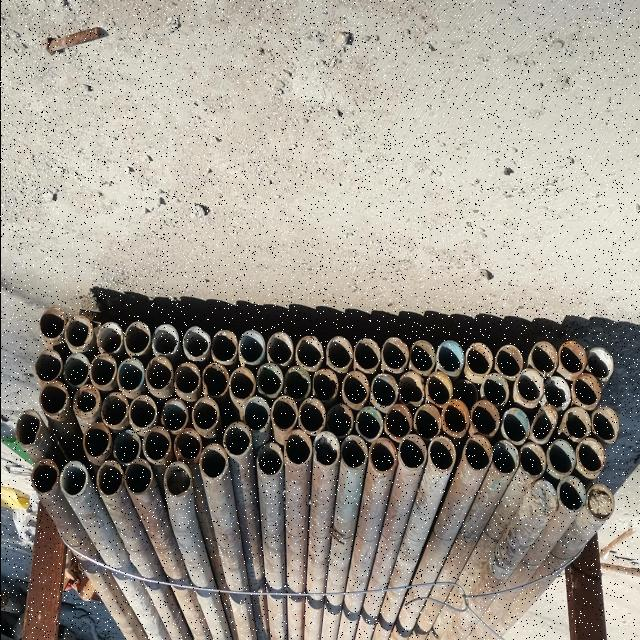pipe: (529, 476, 557, 520), (544, 438, 574, 477), (58, 458, 88, 497), (30, 456, 59, 496), (490, 438, 520, 476), (502, 405, 532, 443), (464, 434, 494, 472), (518, 440, 546, 480), (542, 374, 572, 411), (200, 361, 230, 398), (531, 404, 558, 444), (530, 339, 560, 375), (494, 342, 524, 378), (470, 400, 500, 436), (198, 443, 228, 479), (162, 462, 192, 498), (514, 366, 542, 404), (428, 434, 456, 472), (369, 437, 397, 475), (284, 428, 312, 466), (558, 475, 586, 512), (266, 329, 294, 366), (313, 430, 340, 468), (15, 408, 42, 446), (480, 372, 510, 406), (294, 334, 324, 368), (586, 484, 614, 520), (398, 433, 426, 469), (355, 404, 383, 440), (341, 370, 369, 406), (270, 396, 298, 432), (191, 396, 219, 432), (174, 426, 202, 462), (142, 426, 170, 462), (144, 355, 172, 391), (96, 460, 124, 496), (443, 398, 469, 436), (95, 320, 124, 354), (413, 404, 441, 439), (436, 339, 464, 374), (384, 403, 412, 438), (326, 403, 354, 438), (283, 366, 311, 401), (210, 328, 238, 363), (124, 458, 152, 493), (116, 357, 144, 392), (72, 384, 100, 419), (39, 381, 67, 416), (425, 370, 452, 406), (298, 397, 325, 433), (256, 441, 283, 477), (243, 396, 270, 432), (100, 391, 127, 427), (124, 319, 151, 355), (572, 372, 602, 404), (558, 340, 586, 374), (578, 439, 606, 473), (464, 341, 492, 375), (340, 435, 368, 469), (222, 422, 250, 456), (128, 394, 156, 428), (112, 430, 140, 464), (354, 336, 381, 371), (256, 361, 283, 396), (238, 329, 265, 364), (372, 372, 398, 408), (83, 422, 109, 458), (173, 361, 201, 394), (326, 335, 353, 369), (35, 348, 62, 382), (228, 366, 254, 401), (90, 352, 116, 387), (66, 314, 92, 349), (40, 306, 66, 341), (182, 325, 210, 357), (587, 346, 613, 380), (592, 406, 618, 440), (564, 406, 590, 440), (398, 370, 424, 404), (161, 398, 188, 430), (410, 339, 436, 372), (452, 376, 478, 408), (382, 337, 408, 369), (312, 368, 338, 400), (152, 324, 178, 356), (64, 354, 88, 386)
